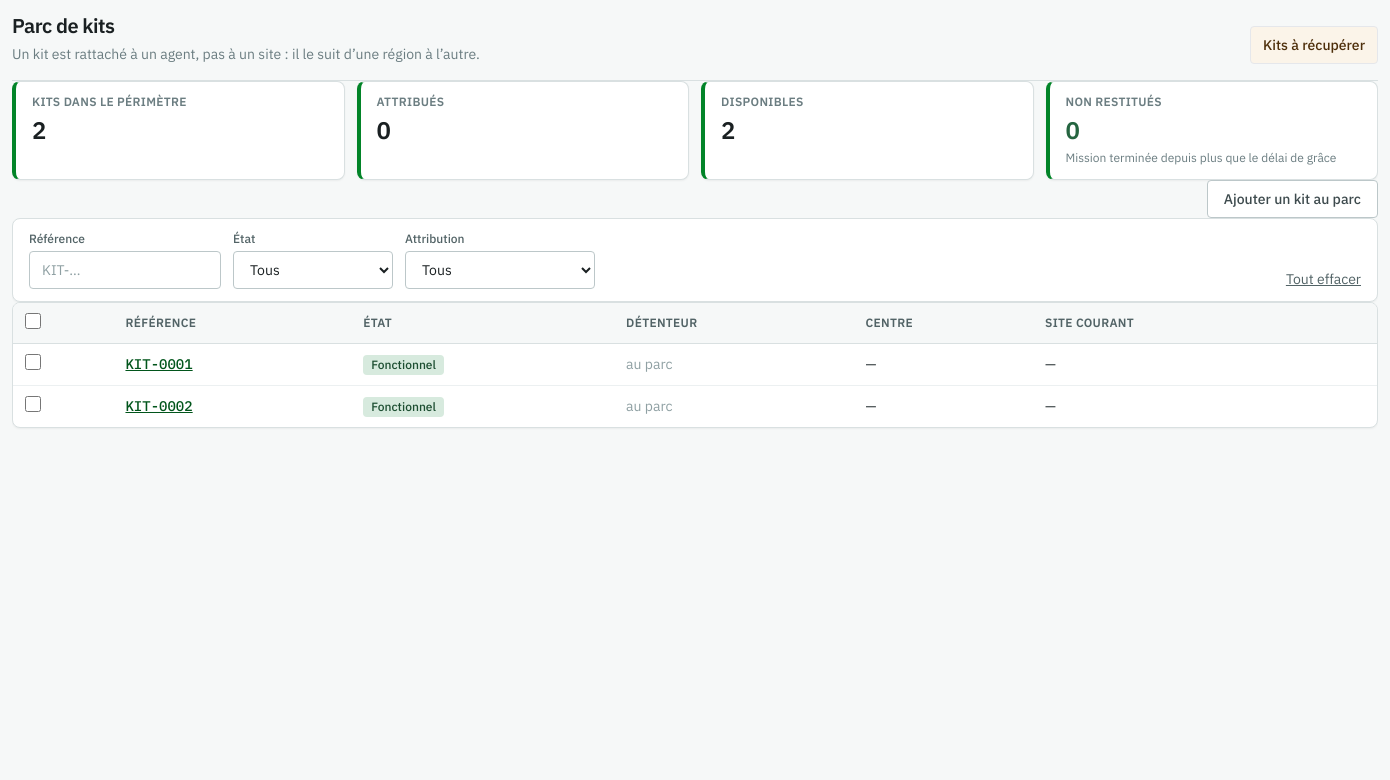
supprimer des lignes cochées › envoie la famille et les identifiants au second clic
The image size is (1390, 780).
Click the checkbox named "Choisir KIT-0001" at [33, 362], box 25,354 -> 41,370
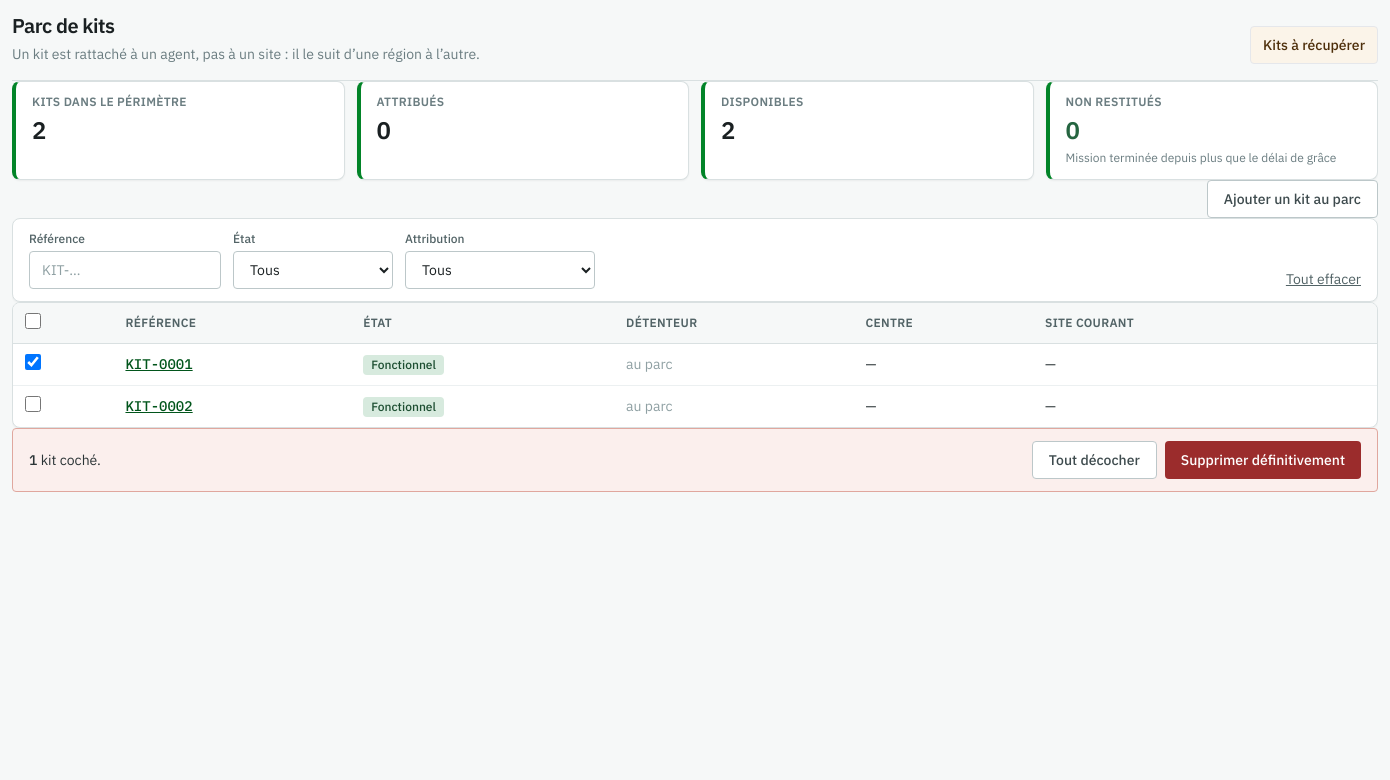
Click the button "Supprimer définitivement" at [1263, 460], box 1165,440 -> 1361,478
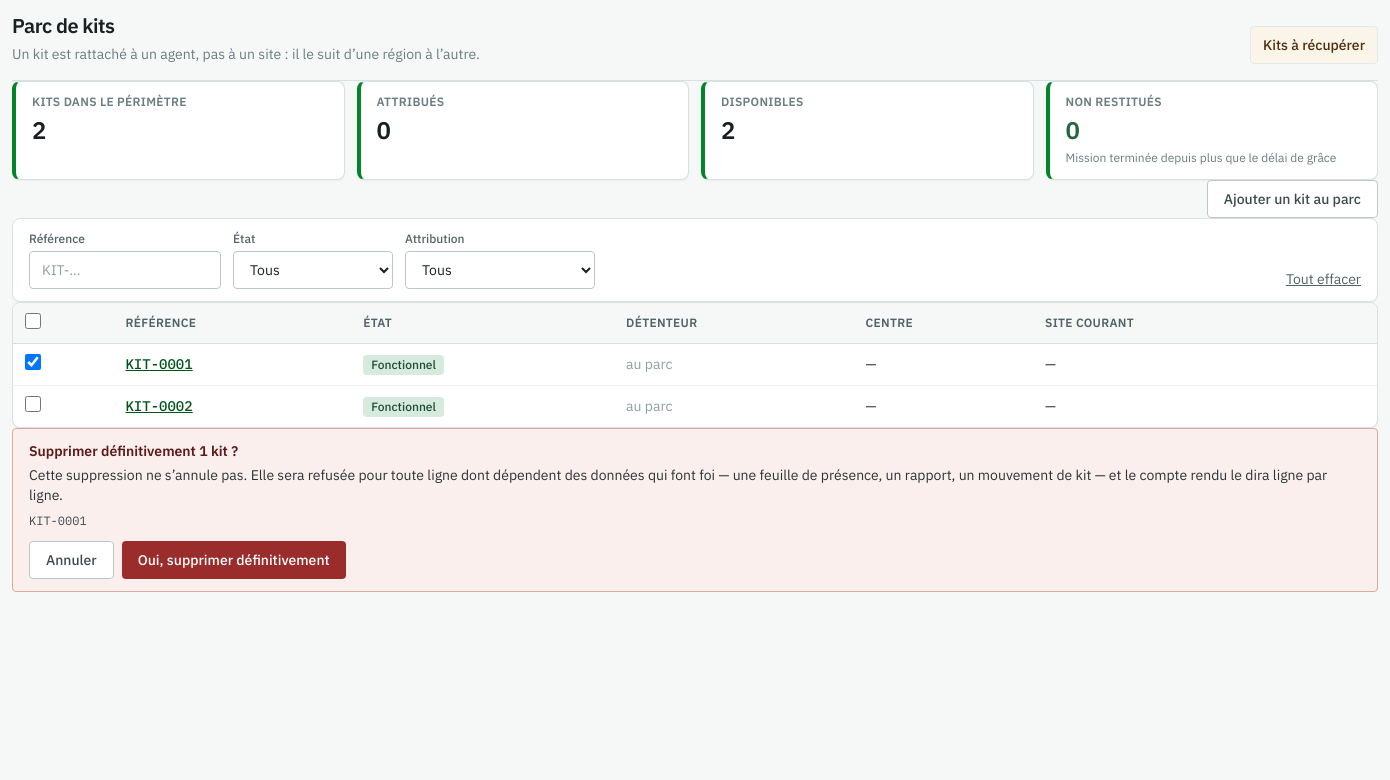
Click the button "Oui, supprimer définitivement" at [234, 560], box 122,540 -> 346,578
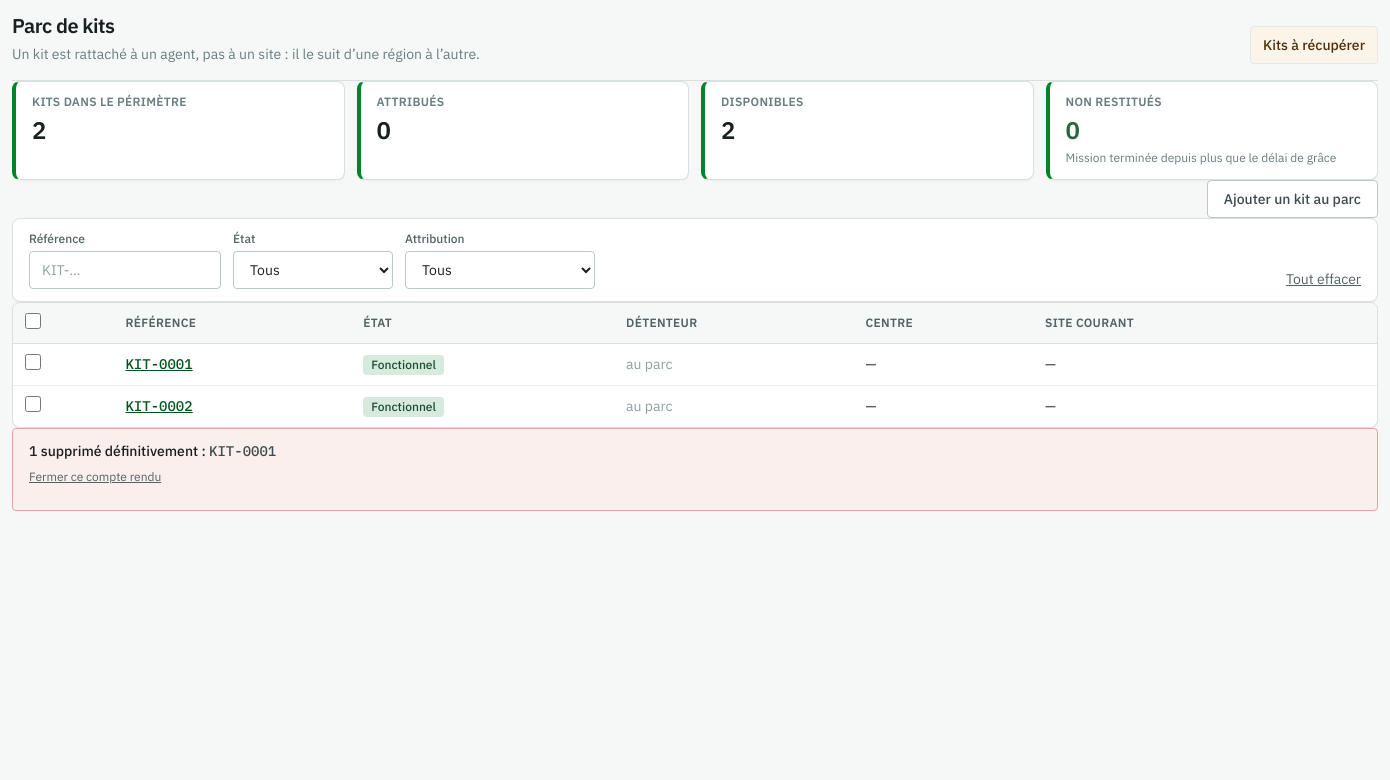
Result: the text "1 supprimé définitivement : KIT-0001" is shown at 29,442 -> 276,460
